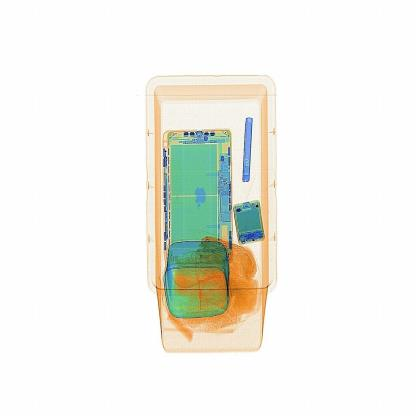pliers: (242, 115, 259, 190)
